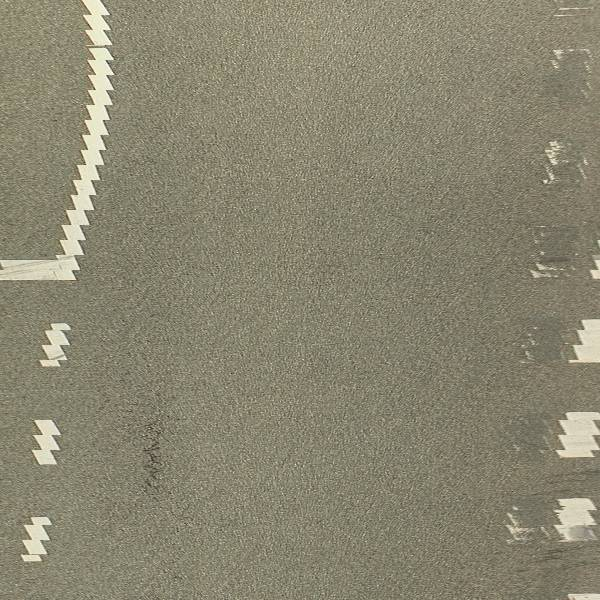road_damage: (133, 407, 173, 513)
